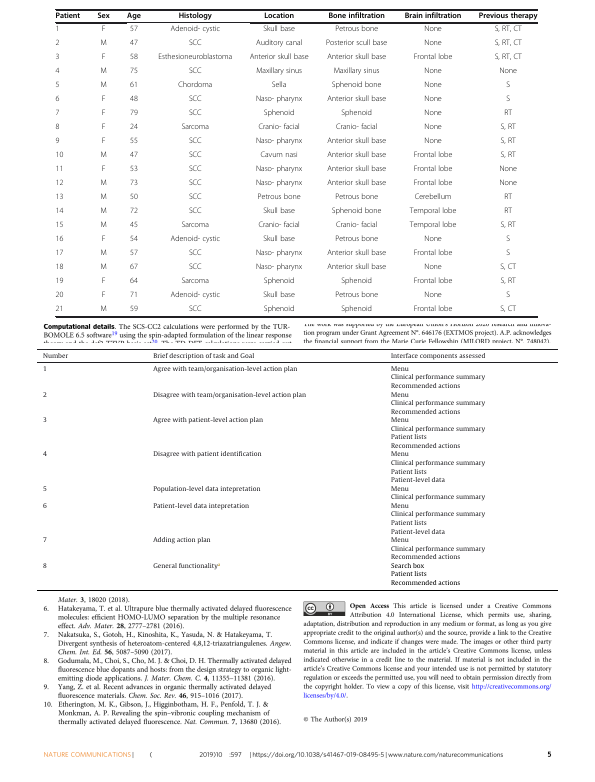borderless: (54, 8, 537, 316), (36, 348, 558, 590)
cell: (389, 417, 485, 451), (389, 451, 485, 485), (389, 503, 485, 537), (389, 391, 485, 417), (389, 366, 485, 391), (389, 537, 485, 562), (389, 563, 461, 588), (389, 485, 485, 502), (152, 391, 306, 400), (152, 366, 298, 374), (152, 451, 262, 460), (152, 485, 261, 494), (152, 352, 255, 361), (152, 417, 263, 425), (389, 352, 486, 361), (152, 503, 249, 511), (157, 53, 233, 63), (325, 39, 388, 49), (152, 562, 221, 571), (326, 53, 387, 63), (326, 95, 387, 105), (326, 137, 387, 147), (326, 151, 387, 161), (326, 165, 387, 175), (326, 179, 387, 189), (326, 249, 387, 259), (326, 263, 387, 273), (249, 53, 309, 63), (478, 12, 538, 21), (327, 12, 386, 21), (404, 12, 462, 21), (169, 25, 221, 35), (169, 235, 221, 245), (169, 291, 221, 301), (331, 81, 382, 91), (331, 207, 382, 217), (255, 39, 303, 49), (255, 67, 303, 77), (255, 95, 303, 105), (255, 137, 303, 147), (255, 165, 303, 175), (255, 179, 303, 189), (409, 207, 457, 217), (409, 221, 457, 231), (255, 249, 303, 259), (255, 263, 303, 273), (152, 537, 211, 545), (333, 67, 380, 77), (334, 25, 379, 35), (334, 193, 379, 203), (334, 235, 379, 245), (334, 291, 379, 301), (257, 123, 301, 133), (257, 193, 301, 203), (257, 221, 301, 231), (335, 123, 378, 133), (335, 221, 378, 231), (413, 53, 453, 63), (259, 151, 299, 161), (413, 151, 453, 161), (413, 165, 453, 175), (413, 179, 453, 189), (413, 249, 453, 259), (413, 277, 453, 287), (413, 305, 453, 315), (414, 193, 452, 203), (177, 81, 213, 91), (262, 25, 296, 35), (262, 207, 296, 217), (262, 235, 296, 245), (262, 291, 296, 301), (340, 109, 373, 119), (340, 277, 373, 287), (340, 305, 373, 315), (263, 109, 295, 119), (263, 277, 295, 287), (263, 305, 295, 315), (178, 12, 213, 21), (180, 123, 210, 133), (180, 221, 210, 231), (180, 277, 210, 287), (494, 25, 523, 35), (494, 39, 523, 49), (494, 53, 523, 63), (263, 12, 295, 21), (41, 352, 69, 361), (55, 12, 81, 21), (423, 25, 443, 35), (423, 39, 443, 49), (423, 67, 443, 77), (498, 67, 518, 77), (423, 81, 443, 91), (423, 95, 443, 105), (423, 109, 443, 119), (423, 123, 443, 133), (423, 137, 443, 147), (498, 165, 518, 175), (498, 179, 518, 189), (423, 235, 443, 245), (423, 263, 443, 273), (423, 291, 443, 301), (499, 263, 517, 273), (499, 305, 517, 315), (500, 123, 517, 133), (500, 137, 517, 147), (500, 151, 517, 161), (500, 221, 517, 231), (500, 277, 517, 287), (271, 81, 287, 91), (126, 12, 142, 21), (188, 39, 202, 49), (188, 67, 202, 77), (188, 95, 202, 105), (188, 109, 202, 119), (188, 137, 202, 147), (188, 151, 202, 161), (188, 165, 202, 175), (188, 179, 202, 189), (188, 193, 202, 203), (188, 207, 202, 217), (188, 249, 202, 259), (188, 263, 202, 273), (188, 305, 202, 315), (96, 12, 111, 21), (129, 25, 139, 35), (129, 39, 139, 49), (129, 53, 139, 63), (129, 67, 139, 77), (129, 81, 139, 91), (129, 95, 139, 105), (129, 109, 139, 119), (503, 109, 513, 119), (129, 123, 139, 133), (129, 137, 139, 147), (129, 151, 139, 161), (129, 165, 139, 175), (129, 179, 139, 189), (129, 193, 139, 203), (503, 193, 513, 203), (129, 207, 139, 217), (503, 207, 513, 217), (129, 221, 139, 231), (129, 235, 139, 245), (129, 249, 139, 259), (129, 263, 139, 273), (129, 277, 139, 287), (129, 291, 139, 301), (129, 305, 139, 315), (99, 39, 108, 49), (99, 67, 108, 77), (99, 81, 108, 91), (55, 151, 64, 161), (99, 151, 108, 161), (55, 165, 64, 175), (55, 179, 64, 189), (99, 179, 108, 189), (55, 193, 64, 203), (99, 193, 108, 203), (55, 207, 64, 217), (99, 207, 108, 217), (55, 221, 64, 231), (99, 221, 108, 231), (55, 235, 64, 245), (55, 249, 64, 259), (99, 249, 108, 259), (55, 263, 64, 273), (99, 263, 108, 273), (55, 277, 64, 287), (55, 291, 64, 301), (55, 305, 64, 315), (99, 305, 108, 315), (505, 81, 511, 91), (505, 95, 511, 105), (505, 235, 511, 245), (505, 249, 511, 259), (505, 291, 511, 301), (41, 391, 47, 400), (41, 451, 47, 460), (41, 485, 47, 494), (55, 25, 60, 35), (101, 25, 106, 35), (55, 39, 60, 49), (55, 53, 60, 63), (101, 53, 106, 63), (55, 67, 60, 77), (55, 81, 60, 91), (55, 95, 60, 105), (101, 95, 106, 105), (55, 109, 60, 119), (101, 109, 106, 119), (55, 123, 60, 133), (101, 123, 106, 133), (55, 137, 60, 147), (101, 137, 106, 147), (101, 165, 106, 175), (101, 235, 106, 245), (101, 277, 106, 287), (101, 291, 106, 301), (41, 366, 47, 374), (41, 417, 47, 425), (41, 503, 47, 511), (41, 537, 47, 545), (41, 563, 47, 571)
